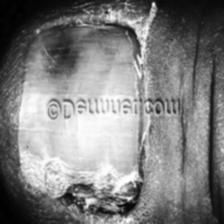Toxin: (16, 21, 150, 220)
